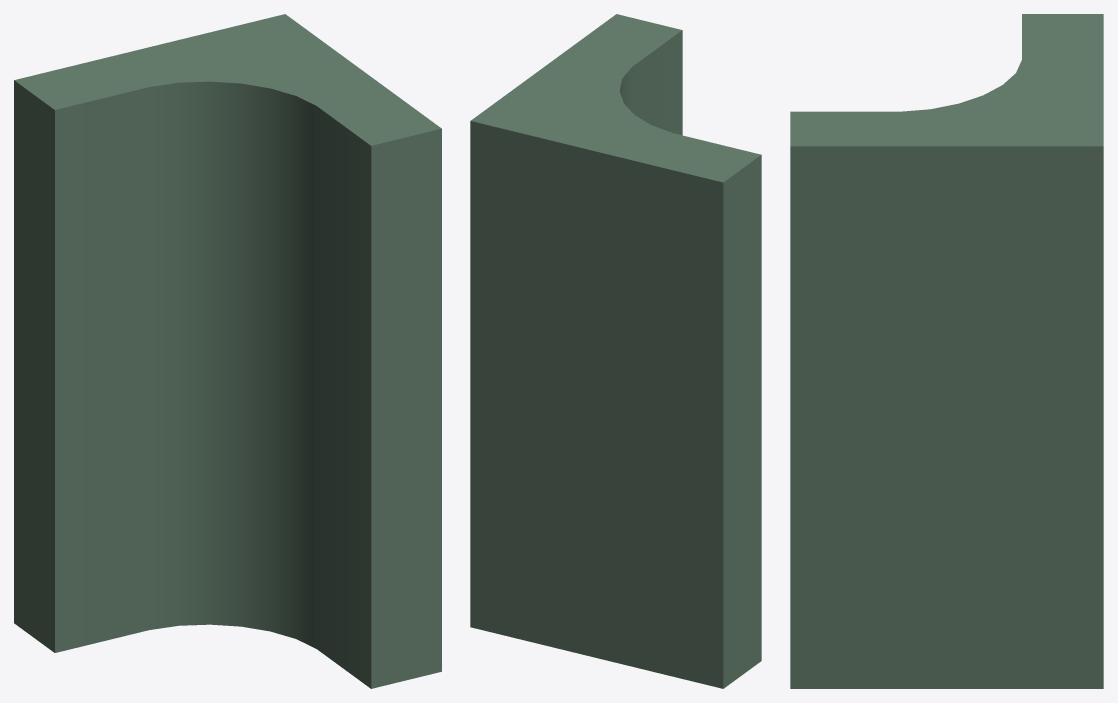
File: W2_WallCorner_Round1B.fbx
The picture shows the model from 3 angles, left to right: view 1: azimuth 30°, elevation 25°; view 2: azimuth 150°, elevation 25°; view 3: azimuth 270°, elevation 25°; orthographic projection. The views are drawn at different scales.
Parts seen in each view (by area): view 1: W2_WallCorner_Round1B.001; view 2: W2_WallCorner_Round1B.001; view 3: W2_WallCorner_Round1B.001.
Part boxes in pixels (box(x1,y1,x2,y2)): W2_WallCorner_Round1B.001: box(14, 14, 441, 688); W2_WallCorner_Round1B.001: box(470, 14, 761, 688); W2_WallCorner_Round1B.001: box(790, 14, 1103, 688).
Size of the model in its own units: 1.15 by 2.2 by 1.15.
